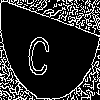C: (25, 25, 53, 79)
